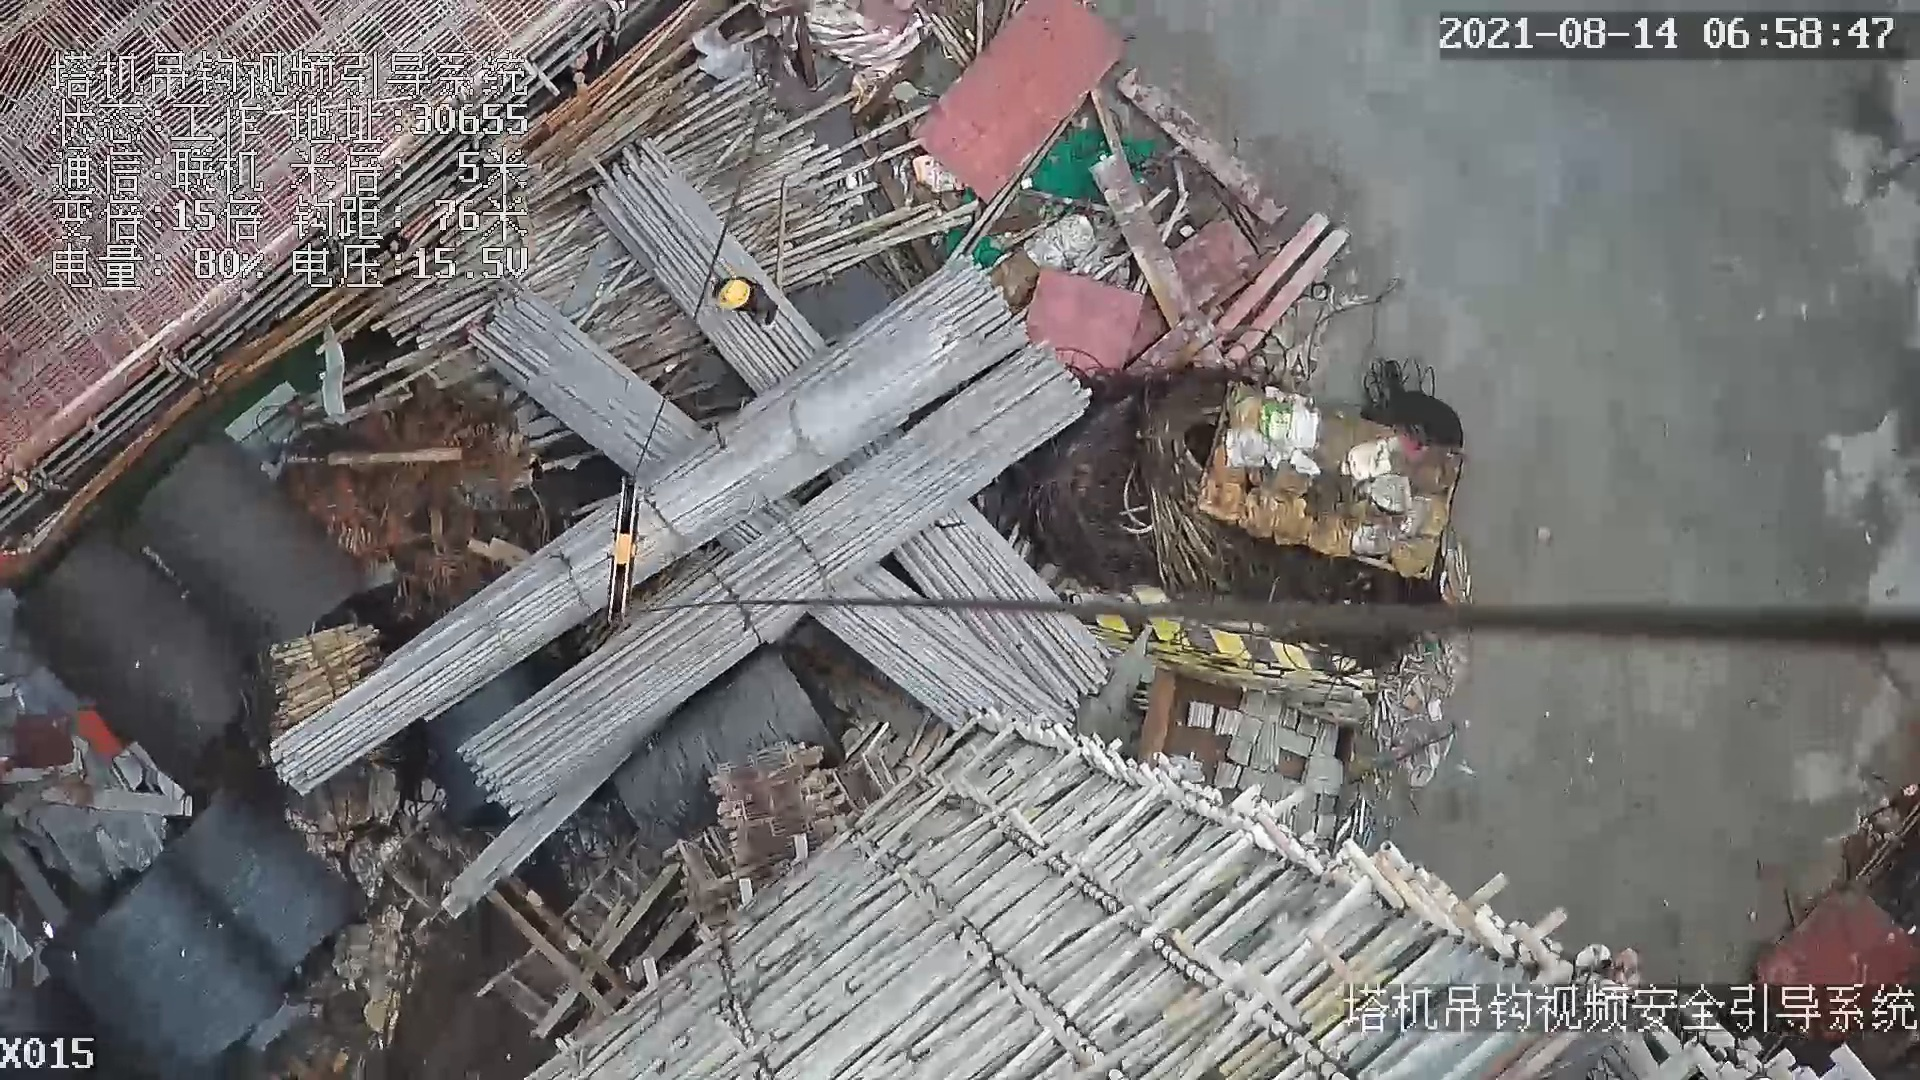helmet: (719, 280, 750, 309)
hook: (603, 472, 644, 623)
person: (708, 278, 785, 336)
rebar: (271, 337, 954, 791), (583, 134, 1112, 708), (466, 345, 1093, 807), (428, 254, 1039, 722), (466, 277, 1079, 739)
scaffold: (265, 626, 378, 734)
